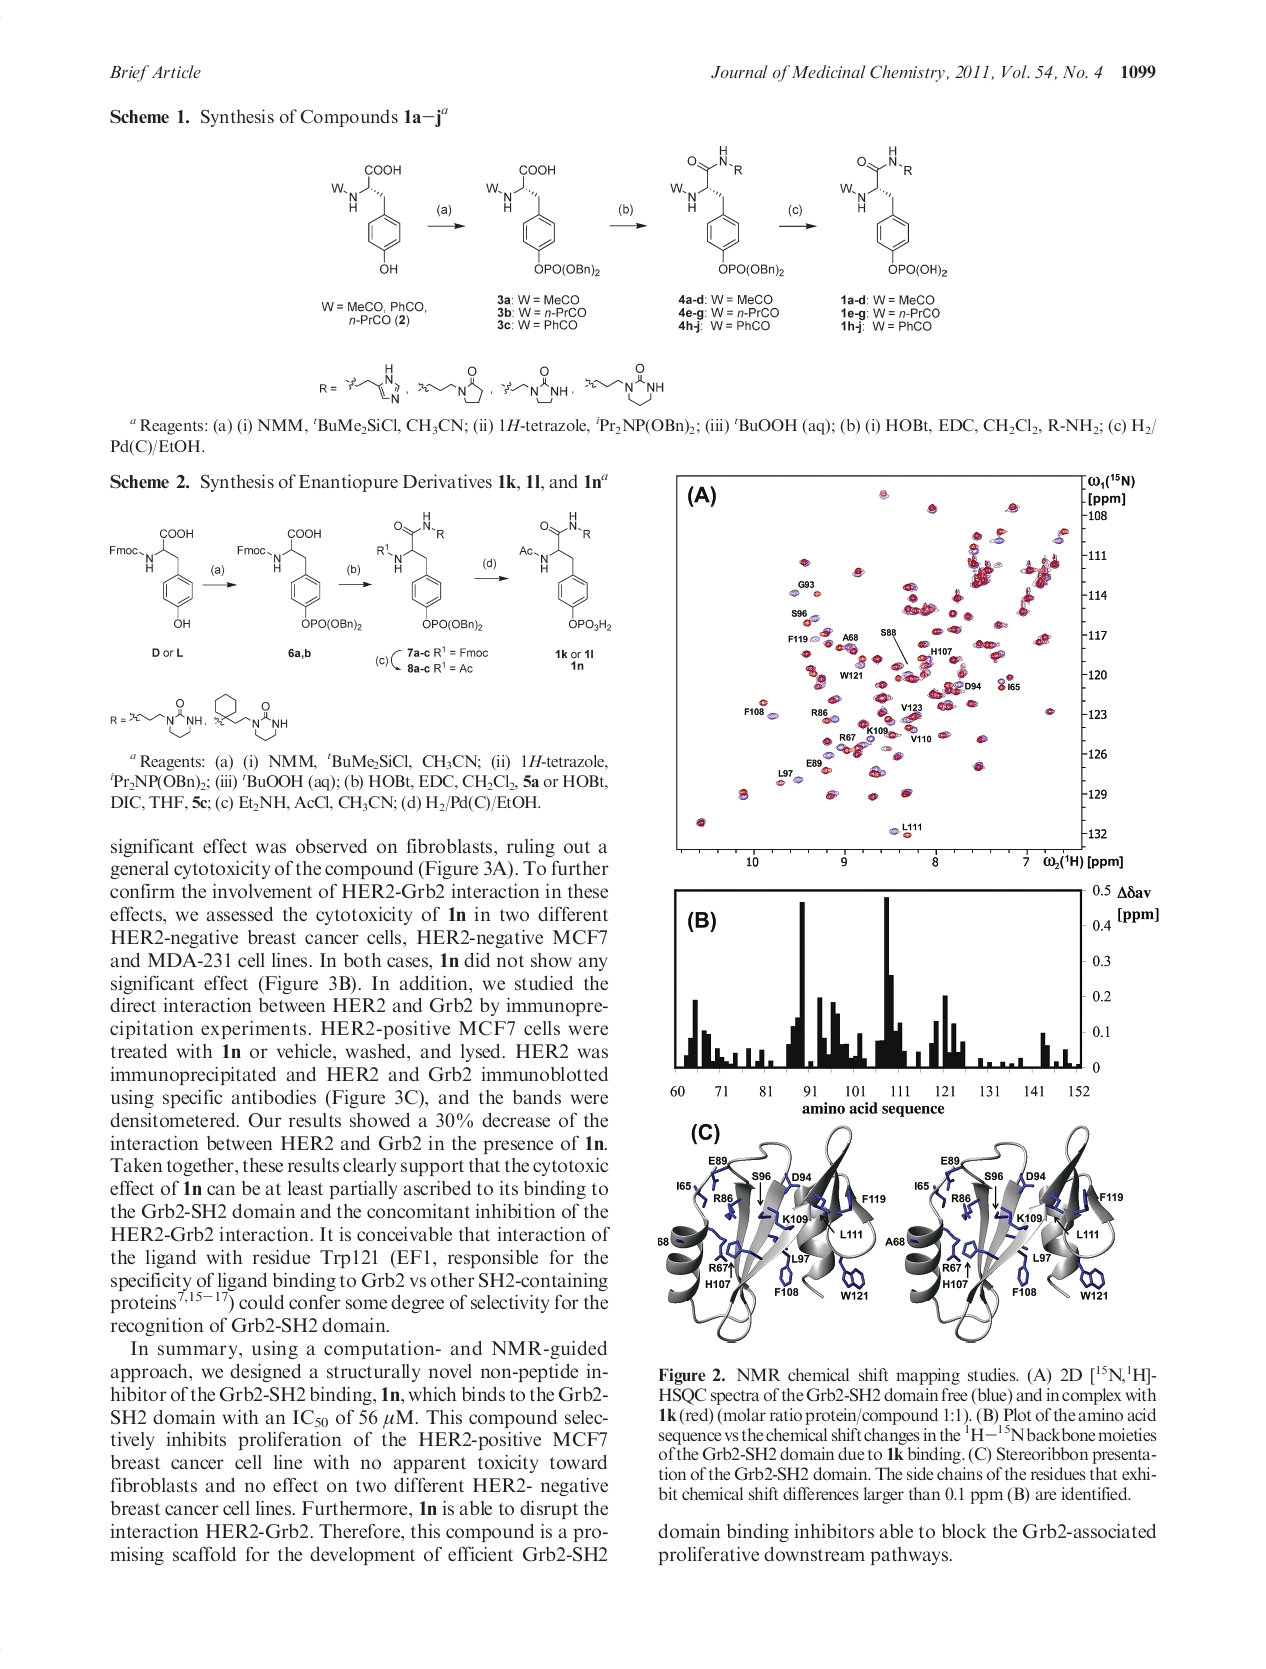exist_molecular: (828, 142, 952, 281), (668, 141, 785, 283), (372, 507, 485, 634), (484, 160, 602, 279), (235, 524, 363, 633), (517, 507, 616, 638), (106, 527, 202, 630), (327, 158, 407, 279), (578, 356, 668, 408), (210, 692, 290, 745), (126, 693, 203, 741), (499, 360, 567, 406), (416, 364, 485, 407), (344, 362, 400, 406)
